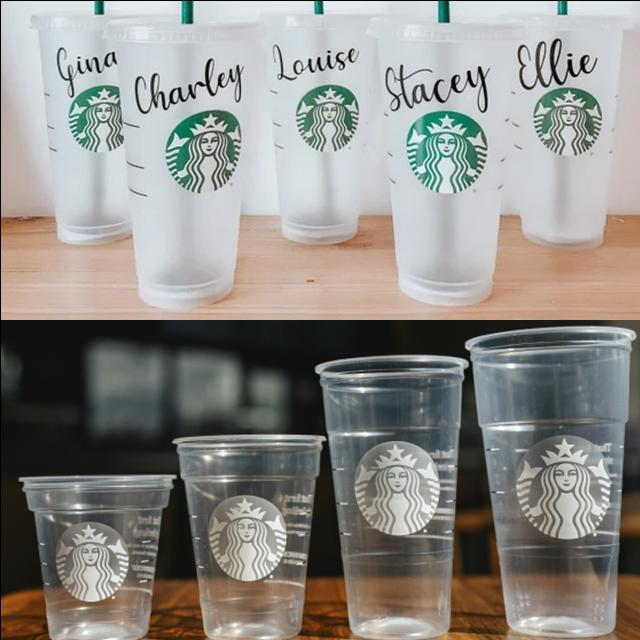plastik: (465, 325, 635, 637), (104, 18, 265, 307), (372, 19, 524, 304), (314, 355, 467, 637), (173, 434, 323, 640), (510, 15, 623, 246), (262, 13, 374, 242), (20, 475, 171, 640), (30, 11, 131, 244)
